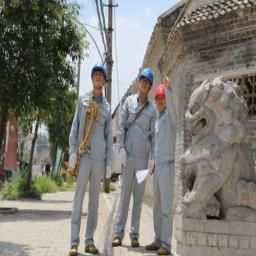helmet: (89, 59, 109, 84), (139, 63, 155, 87), (154, 85, 169, 102)
no-vest: (69, 91, 114, 161), (117, 94, 158, 159), (153, 110, 179, 162)
